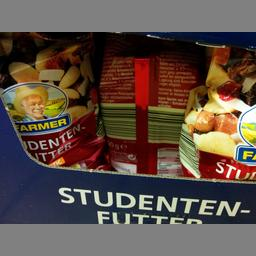nuts: (0, 32, 107, 170), (96, 39, 199, 174), (180, 44, 254, 178)
